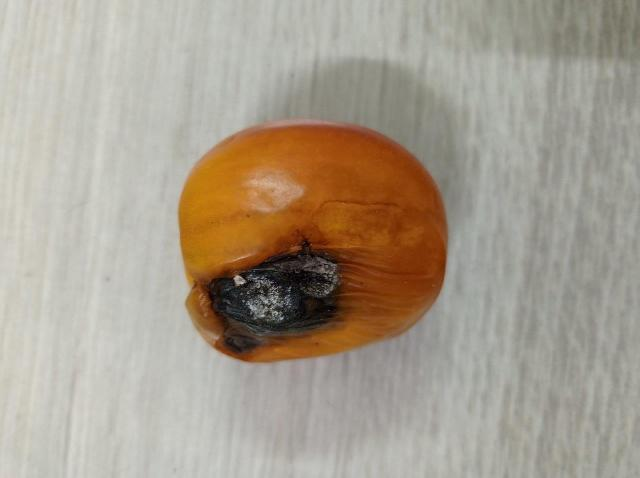defect: (172, 121, 452, 368)
